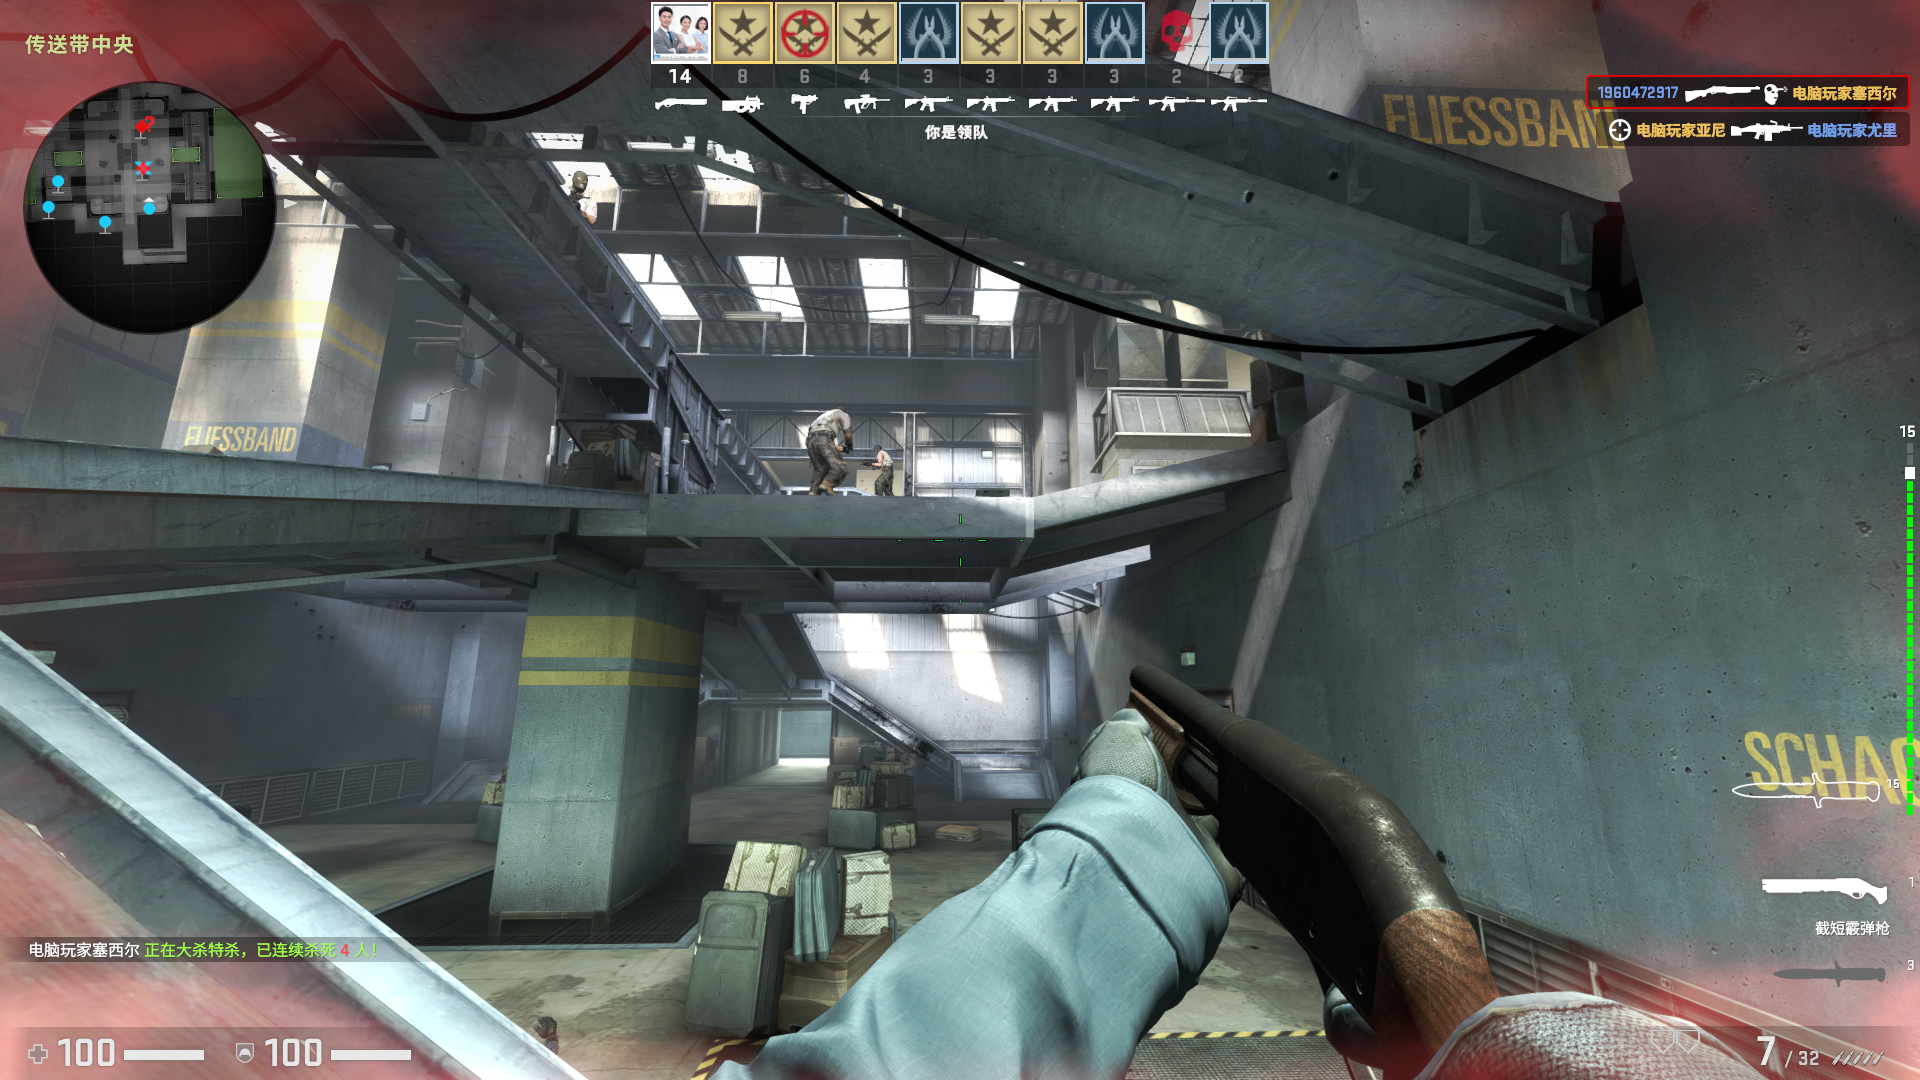person: (801, 400, 848, 491), (865, 441, 901, 503)
